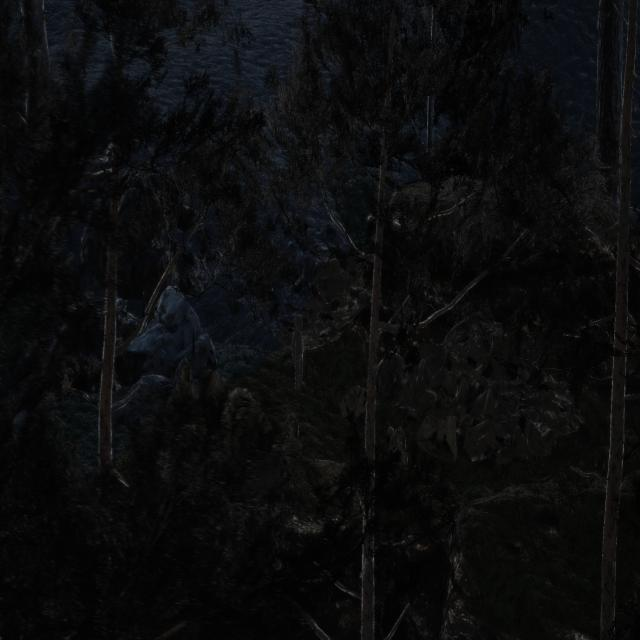Human: (280, 296, 309, 410)
